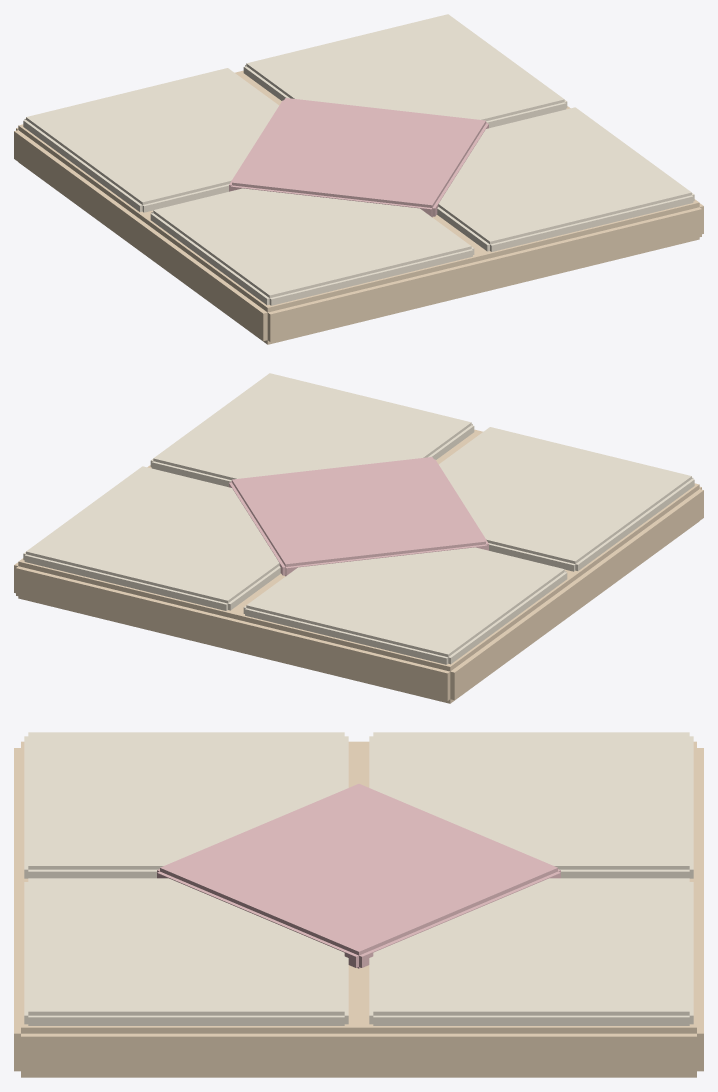
File: HOB_Tile_Diamond.fbx
The picture shows the model from 3 angles, top to bottom: view 1: azimuth 30°, elevation 25°; view 2: azimuth 150°, elevation 25°; view 3: azimuth 270°, elevation 25°; orthographic projection. The views are drawn at different scales.
Parts seen in each view (by area): view 1: HOB_Tile_Diamond; view 2: HOB_Tile_Diamond; view 3: HOB_Tile_Diamond.
Part boxes in pixels (x1,y1,x2,y2): HOB_Tile_Diamond: [14, 14, 703, 344]; HOB_Tile_Diamond: [14, 373, 703, 703]; HOB_Tile_Diamond: [14, 732, 703, 1077].
Bounding box in the file's own units: 100 × 10.7 × 100.
